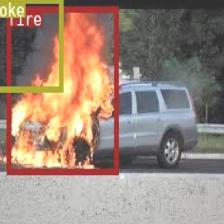fire: (6, 5, 118, 173)
smoke: (0, 0, 62, 90)
